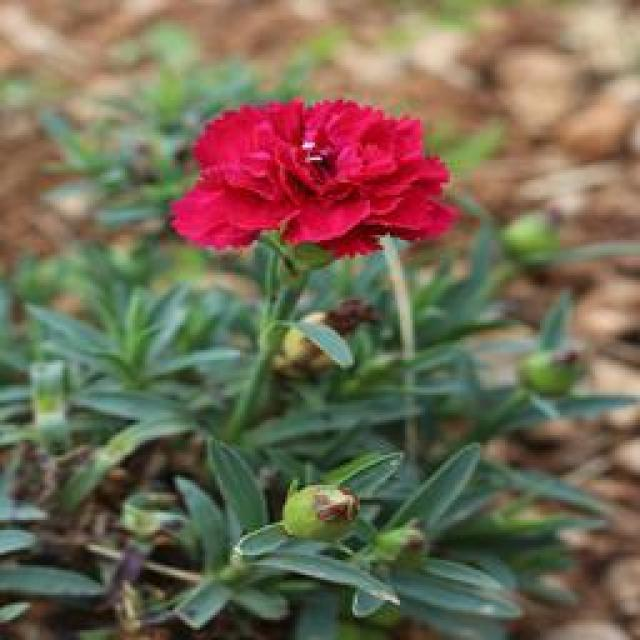carnation: (171, 77, 458, 327)
